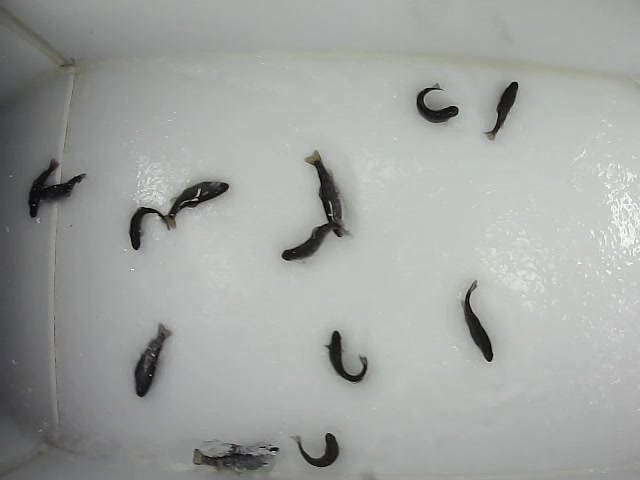fish: (301, 148, 344, 237), (190, 443, 286, 480), (162, 179, 231, 229), (132, 321, 171, 398), (461, 277, 494, 367), (279, 223, 353, 263), (176, 348, 267, 379), (321, 330, 371, 385), (484, 79, 519, 141), (26, 158, 61, 220), (128, 204, 171, 250), (414, 82, 460, 124), (291, 430, 340, 469), (39, 174, 87, 202)
